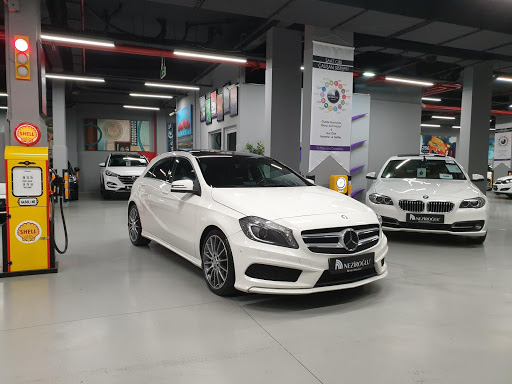araba: (126, 150, 389, 298), (363, 154, 488, 244)
